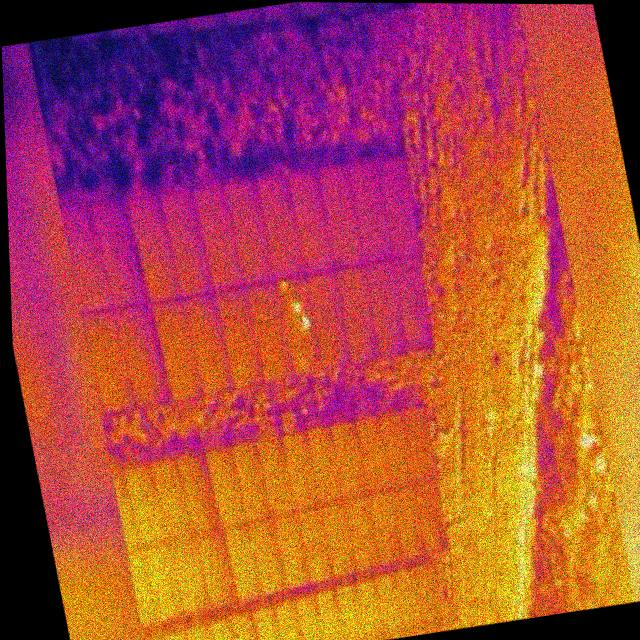Hotspot: (271, 272, 330, 381)
Normal: (85, 195, 151, 314), (153, 185, 217, 303), (144, 294, 208, 406), (188, 180, 248, 298), (238, 277, 300, 388), (282, 166, 341, 280), (369, 150, 428, 264), (329, 261, 386, 367), (350, 412, 399, 500), (201, 446, 251, 531), (254, 434, 301, 522), (293, 505, 339, 588)
